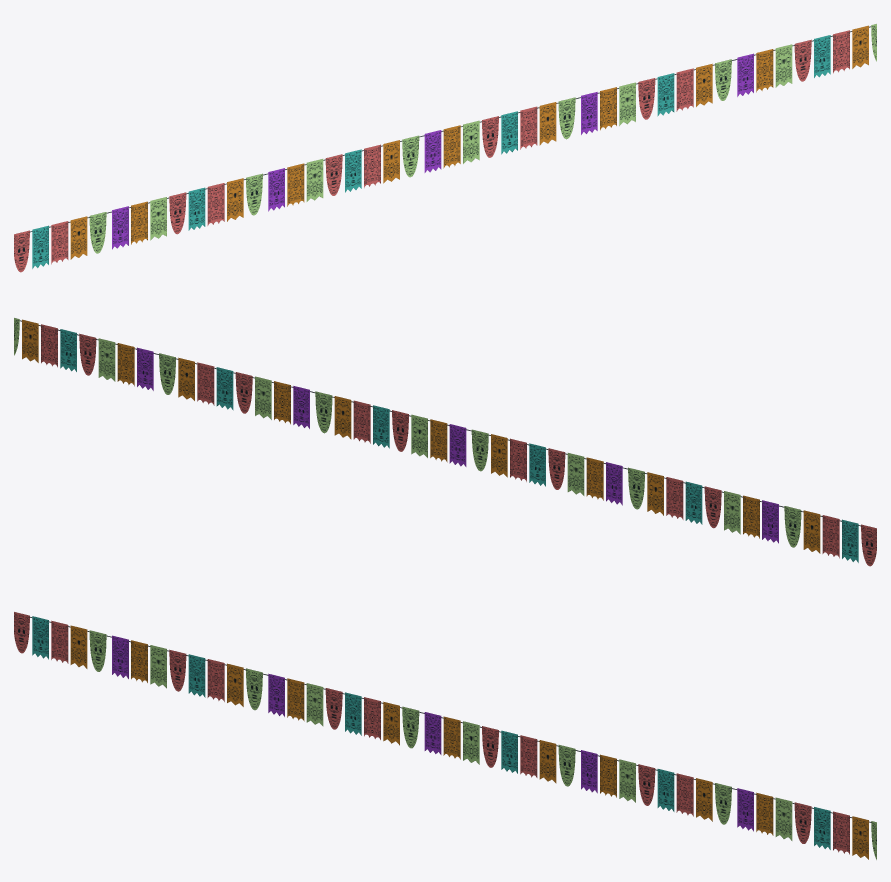
The model's file is Papel_picado.obj.
3 renders of one model, top to bottom at view 1: azimuth 30°, elevation 25°; view 2: azimuth 150°, elevation 25°; view 3: azimuth 330°, elevation 25°, orthographic.
Visible parts, largest first — view 1: Plane001; view 2: Plane001; view 3: Plane001.
Part boxes in pixels (bbox=[...]): Plane001: bbox=[14, 24, 876, 272]; Plane001: bbox=[14, 318, 876, 566]; Plane001: bbox=[14, 612, 876, 859].
Size of the model in its own units: 199 by 12.14 by 0.
Materials: 1 (1 with a texture image).
